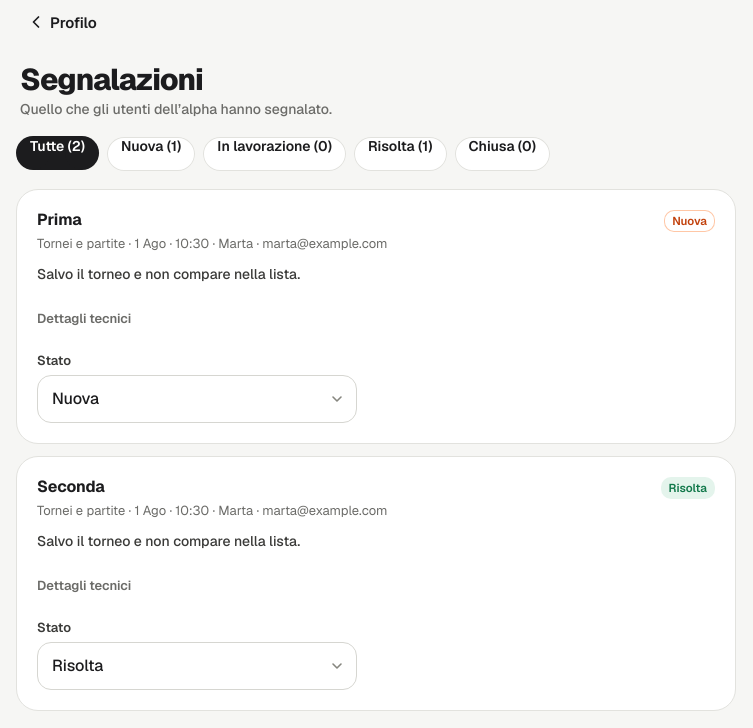
Segnalazioni — filtro per stato › filtrando per "Risolta" resta solo quella
This screenshot has width=753, height=728.
Click the button "Risolta (1)" at (400, 154), box [354,137,447,171]
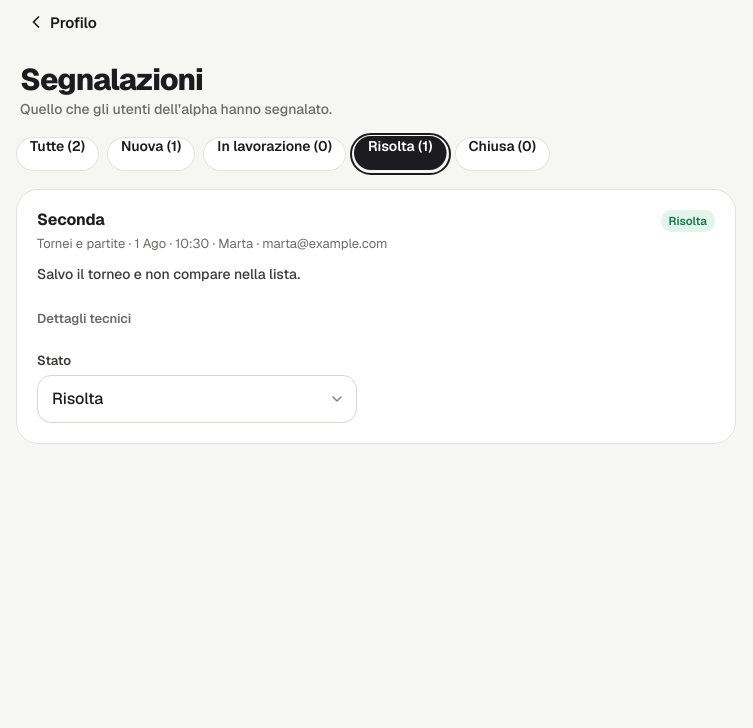
Expected: the heading "Seconda" is shown, [37,209,105,230]
Result: the heading "Prima" is gone
